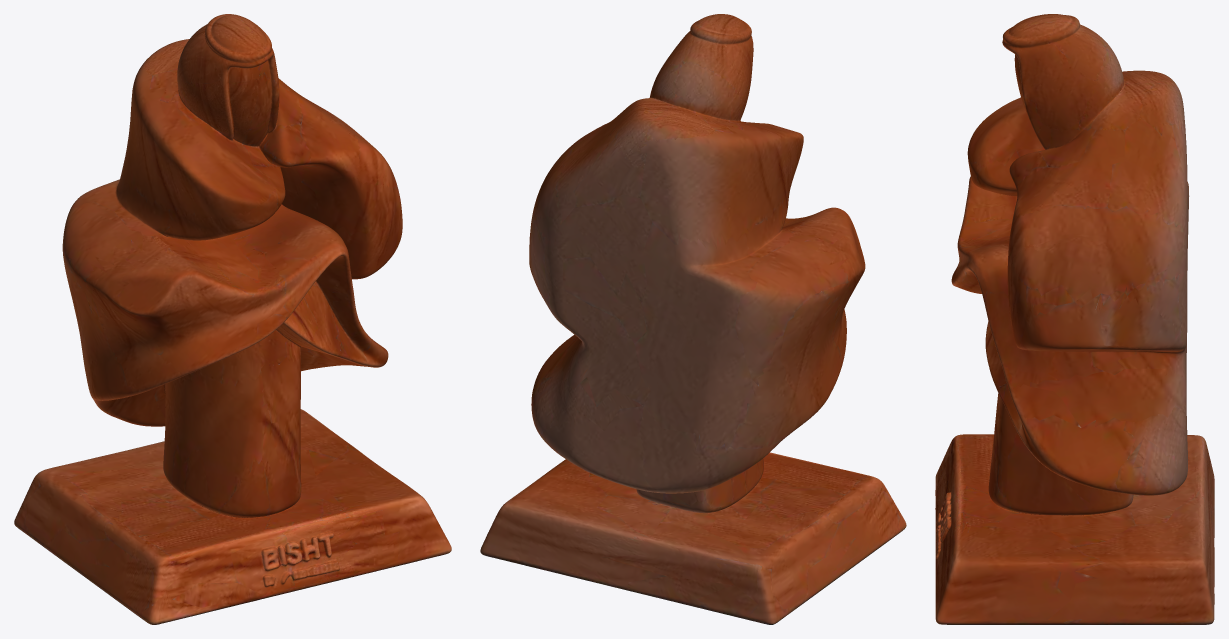
The model's file is bisht-sculpture.glb.
The picture shows the model from 3 angles, left to right: view 1: azimuth 30°, elevation 25°; view 2: azimuth 150°, elevation 25°; view 3: azimuth 270°, elevation 25°; orthographic projection. The views are drawn at different scales.
Size of the model in its own units: 0.5322 by 0.8735 by 0.4167.
Materials: 1 (1 with a texture image).
